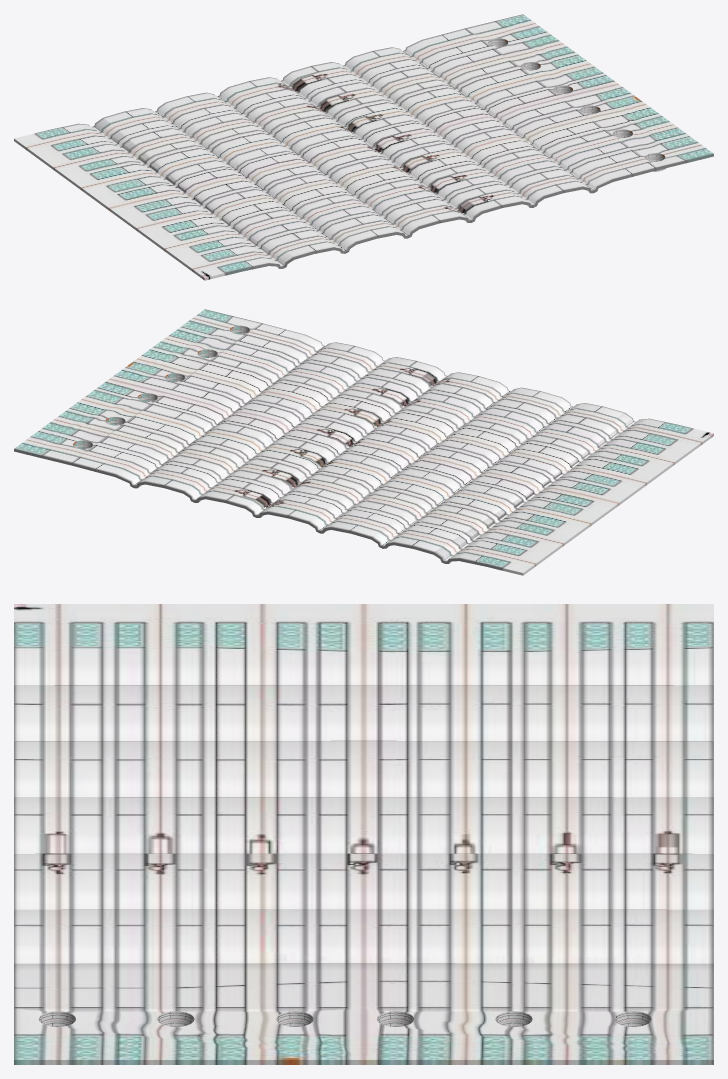
File: shiyan.fbx
The picture shows the model from 3 angles, top to bottom: view 1: azimuth 30°, elevation 25°; view 2: azimuth 150°, elevation 25°; view 3: azimuth 270°, elevation 25°; orthographic projection. The views are drawn at different scales.
Parts seen in each view (by area): view 1: pPlane2; view 2: pPlane2; view 3: pPlane2.
Part boxes in pixels (x1,y1,x2,y2): pPlane2: (14,14,713,280); pPlane2: (14,309,713,575); pPlane2: (14,604,713,1064).
Size of the model in its own units: 43.89 by 0.8259 by 28.48.
1 material, 1 textured.
